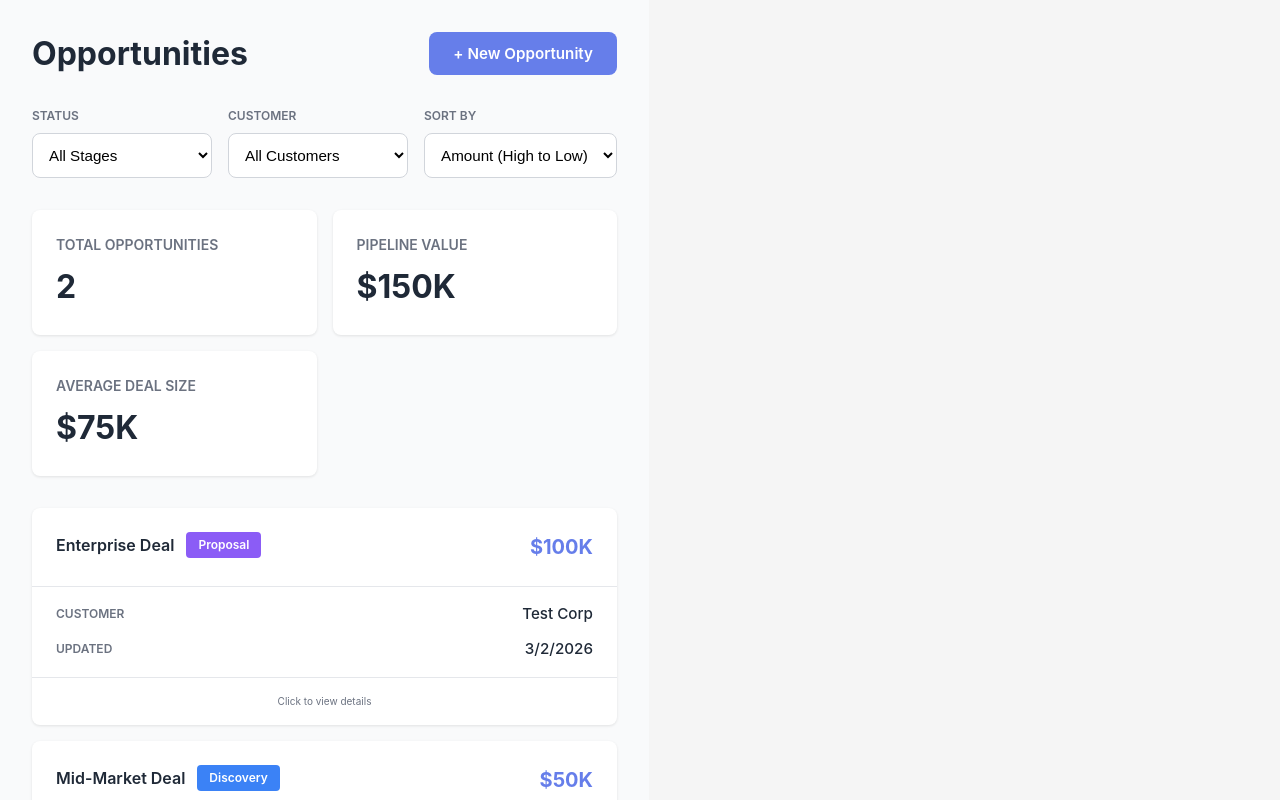
Test: OpportunitiesPage › should open create opportunity modal
Click the button "+ New Opportunity" at (523, 54), box x1=429 y1=32 x2=617 y2=75
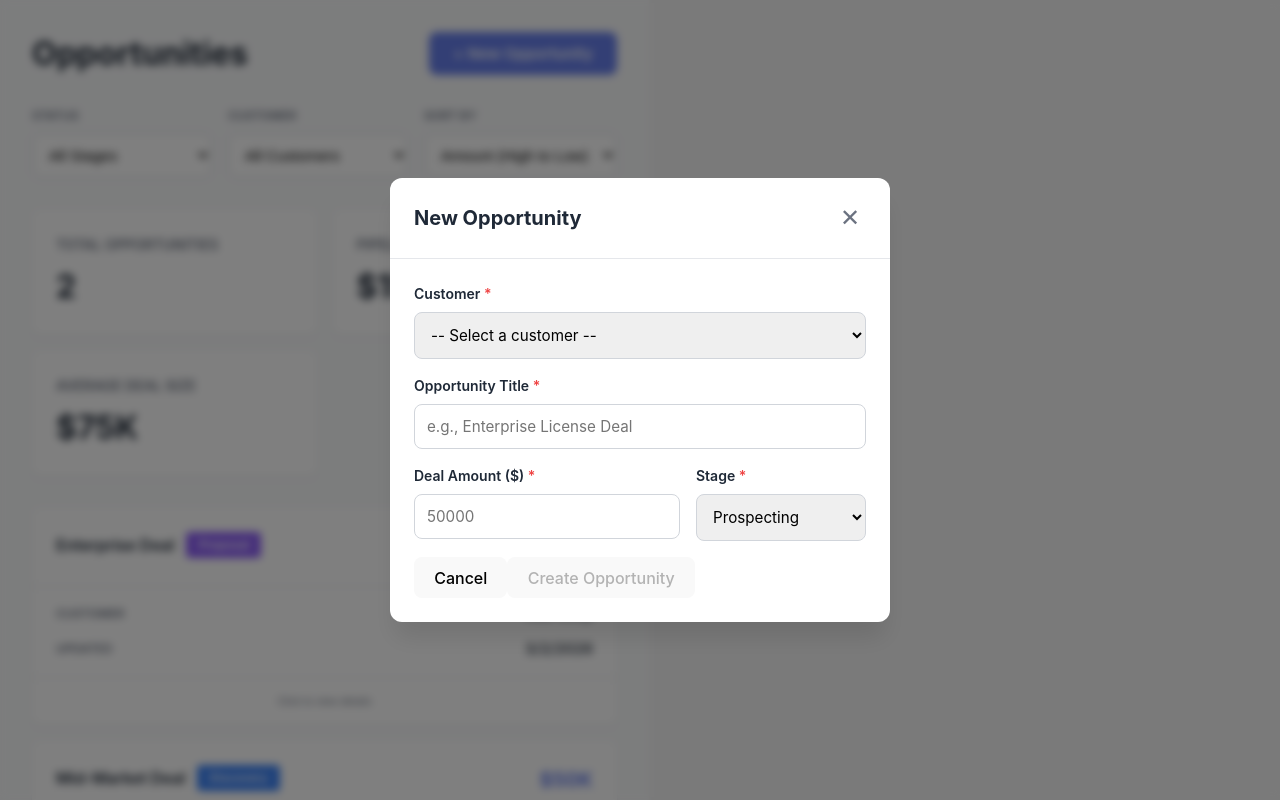
Check: the heading "New Opportunity" is shown, box x1=414 y1=203 x2=582 y2=233
